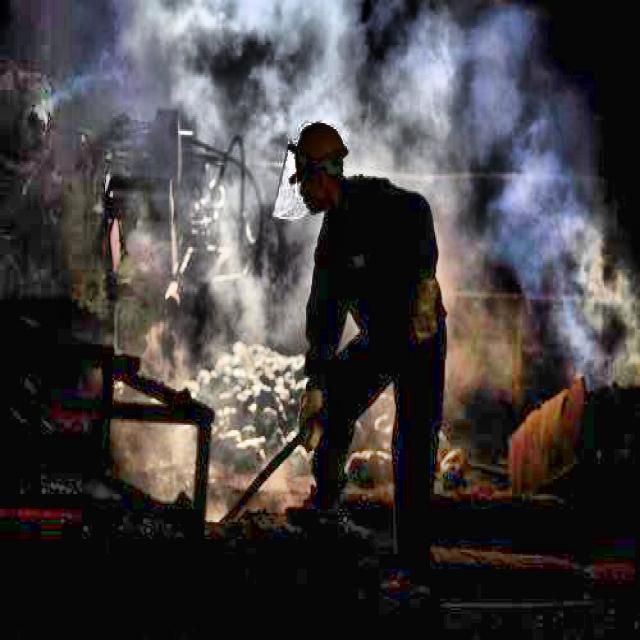helmet: (289, 116, 357, 211)
